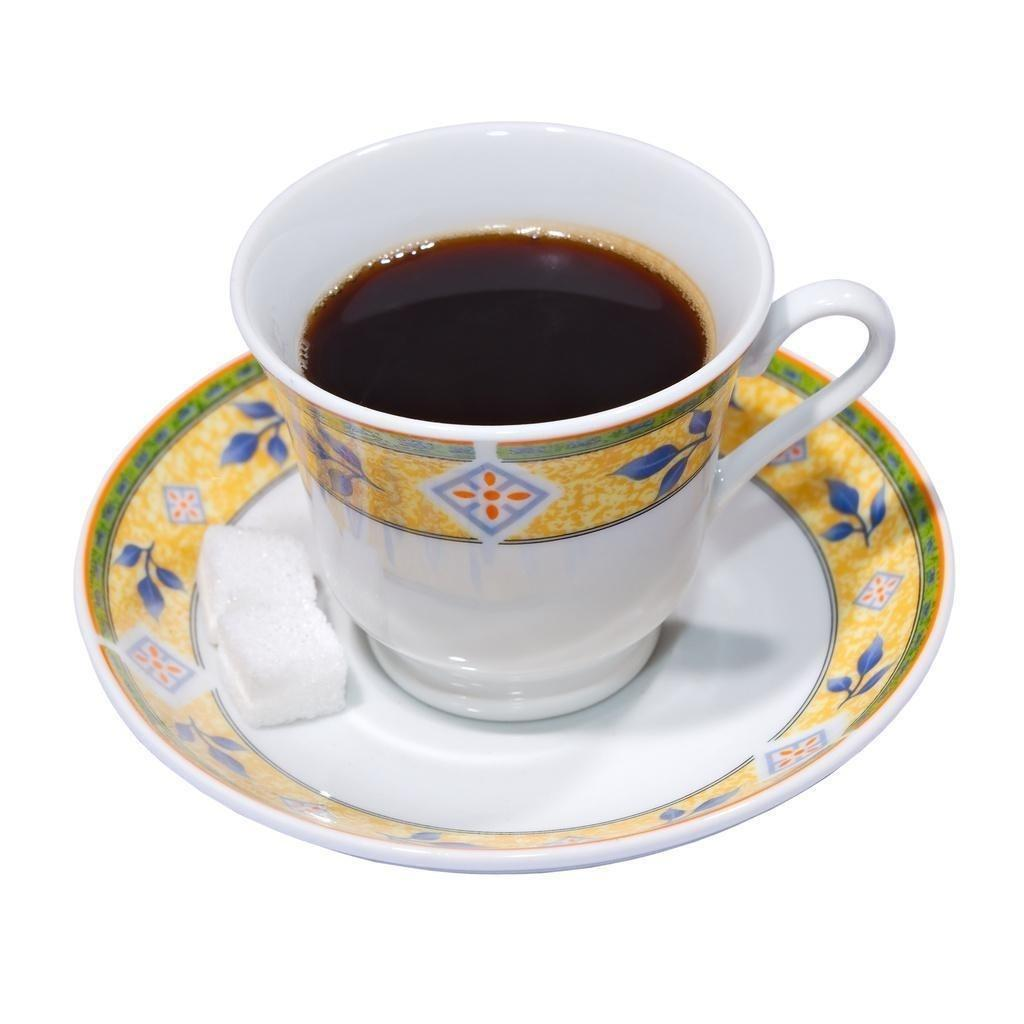cup-handle: (228, 114, 896, 721)
